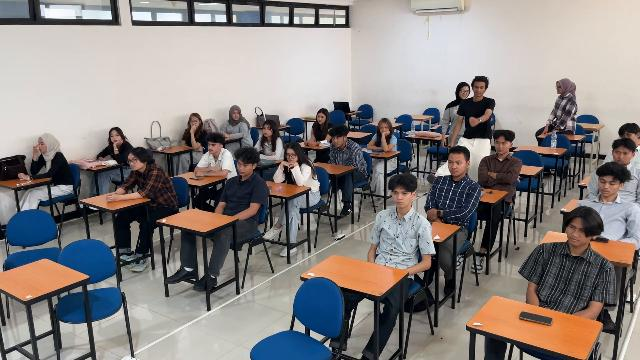fokus: (566, 221, 588, 246), (598, 176, 619, 196), (392, 188, 411, 208), (448, 155, 464, 176), (613, 148, 630, 164), (494, 139, 508, 154), (128, 153, 141, 169), (237, 159, 250, 175), (110, 129, 122, 145), (620, 131, 640, 140), (207, 140, 219, 153), (286, 149, 297, 163), (262, 124, 273, 136), (332, 135, 343, 147), (38, 138, 46, 154), (380, 121, 389, 135), (190, 116, 199, 128), (317, 112, 325, 124), (232, 110, 240, 120)
